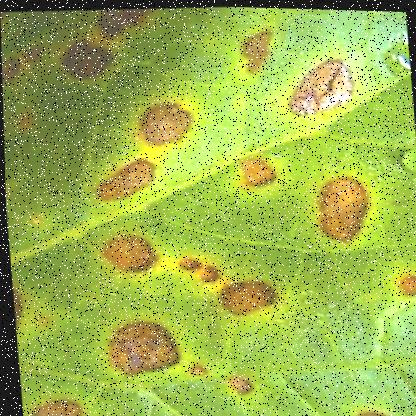AlternariaBrassicicola: (303, 166, 382, 249), (94, 317, 186, 376), (284, 52, 361, 120), (82, 150, 170, 206), (54, 27, 127, 90), (126, 92, 200, 151), (92, 226, 161, 280), (218, 275, 283, 319), (226, 22, 279, 75), (230, 147, 283, 191), (19, 388, 86, 415), (10, 274, 32, 351), (223, 371, 257, 398), (171, 248, 203, 273), (390, 267, 415, 298), (343, 400, 394, 415), (197, 259, 219, 284), (184, 359, 211, 379)
